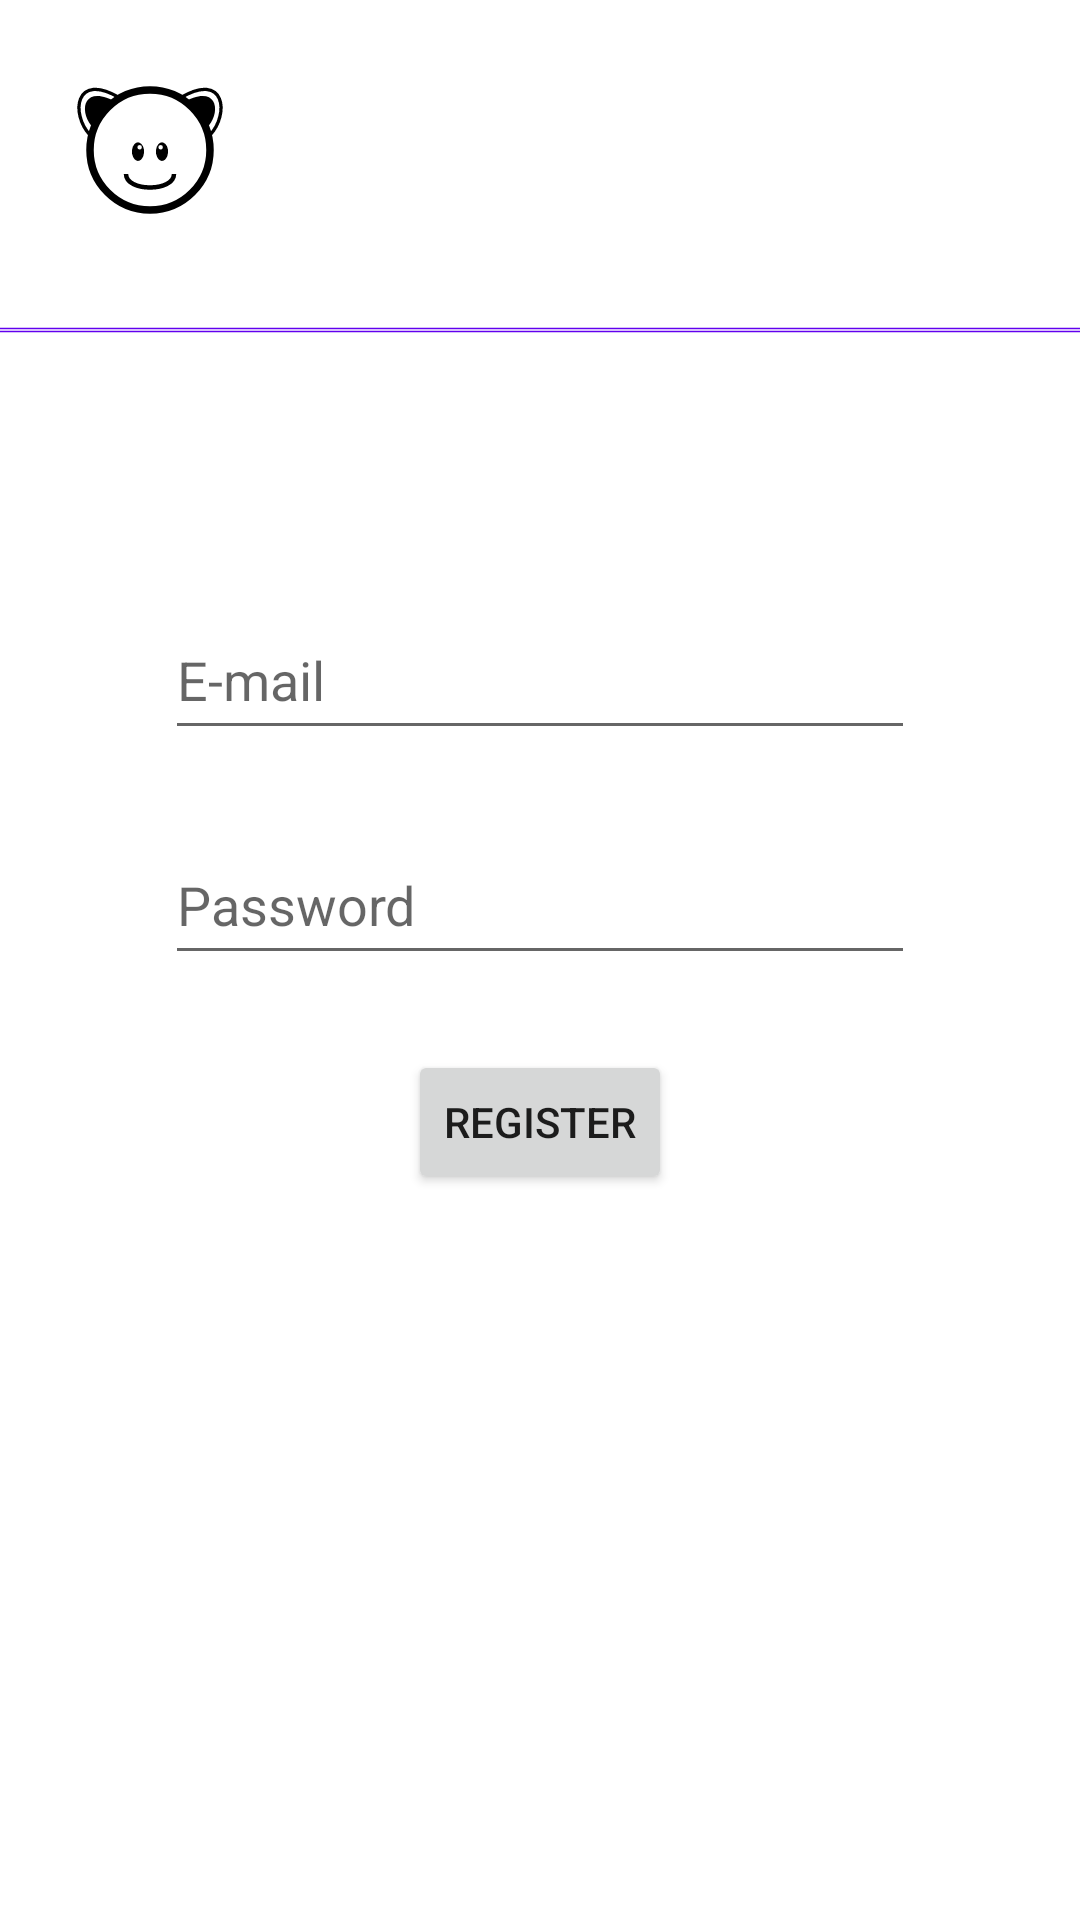

Icons on this 1080 × 1920 Android screen, each with its box as (x1, y1, x2, y2):
bear: (77, 86, 223, 214)
